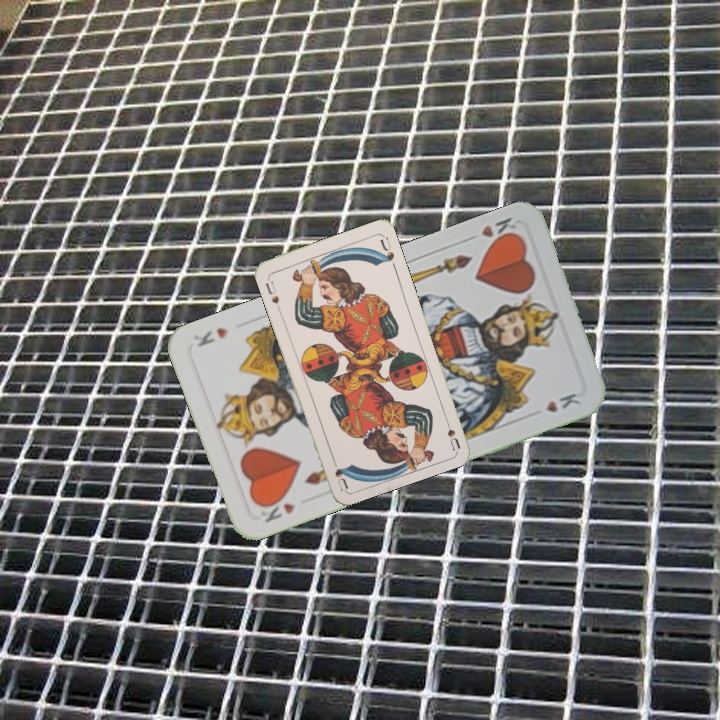HK: (461, 213, 520, 248), (256, 492, 298, 525)
SU: (440, 411, 462, 452), (261, 273, 283, 313)
